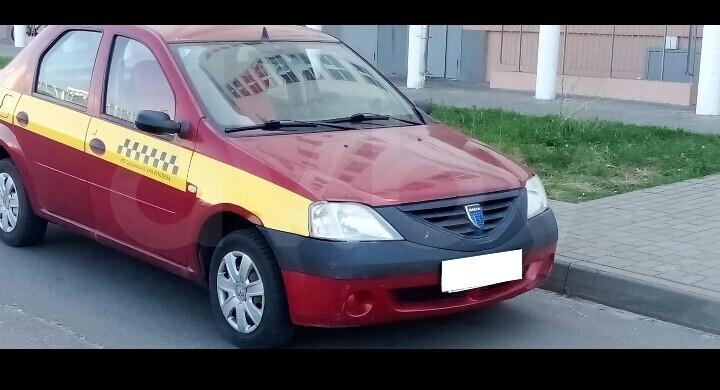Logan_2004-2009: (0, 20, 564, 349)
